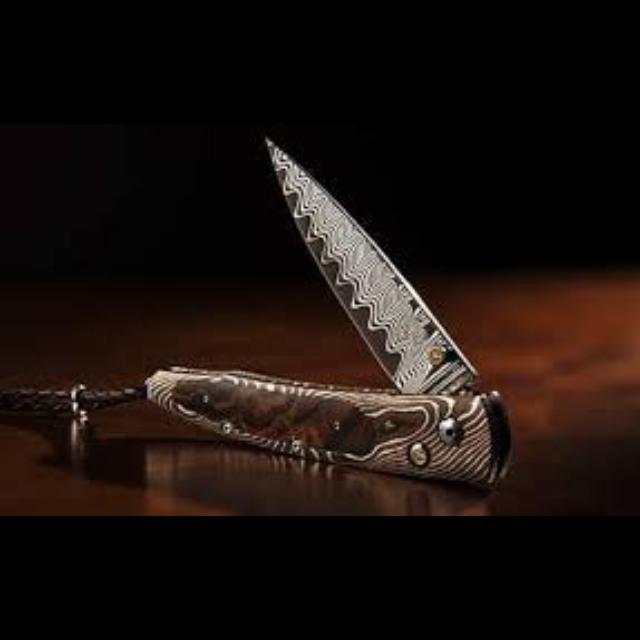Knife: (0, 124, 510, 490), (261, 132, 479, 396)
